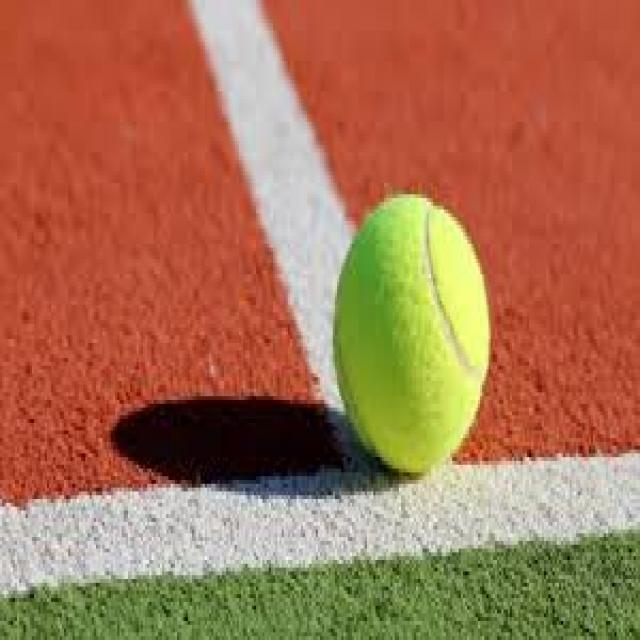Tennis-Ball: (332, 193, 492, 476)
